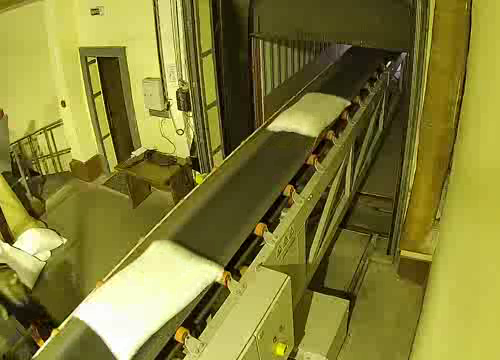bag: (58, 229, 243, 360), (260, 82, 378, 147)
